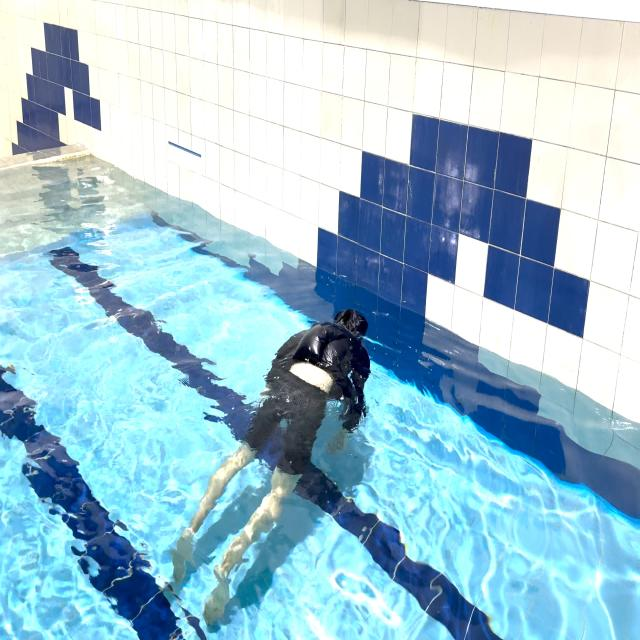Drowning: (165, 300, 384, 630)
